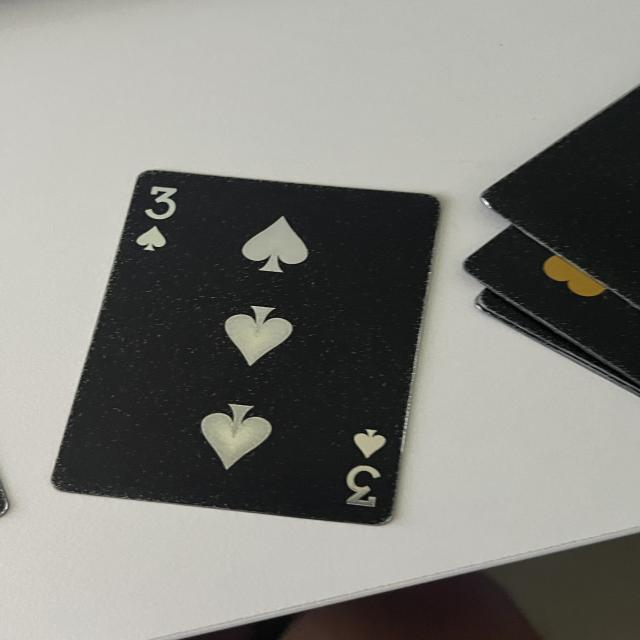3S: (342, 422, 398, 515), (131, 179, 182, 257)
BACK: (477, 67, 640, 313)
